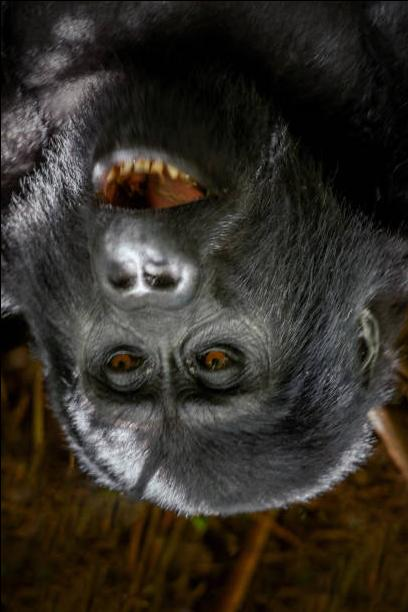goriile_montagne: (0, 5, 408, 515)
